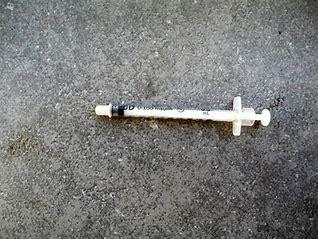Syringe: (82, 85, 302, 141)
